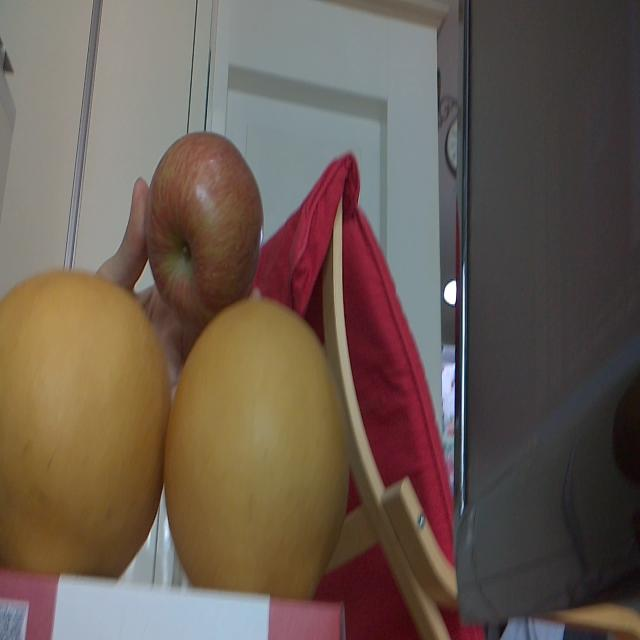apple: (147, 130, 262, 294)
pear: (164, 302, 353, 593), (0, 270, 152, 570)
